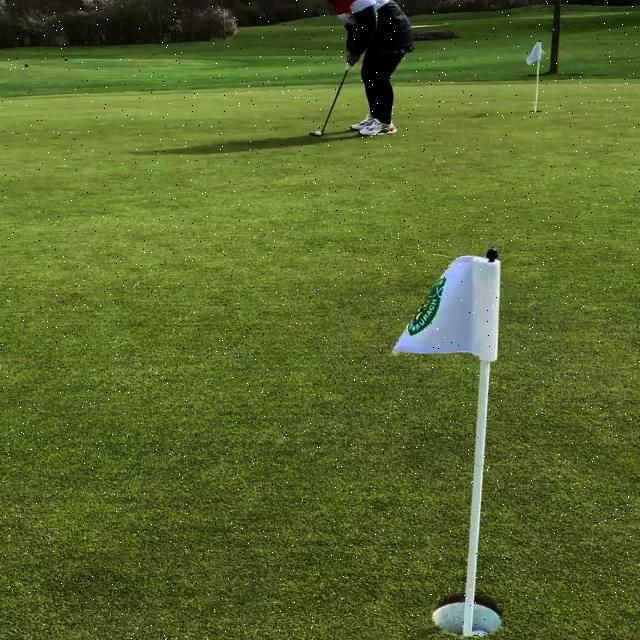ClubHead: (309, 132, 321, 136)
GolfBall: (317, 132, 322, 135)
